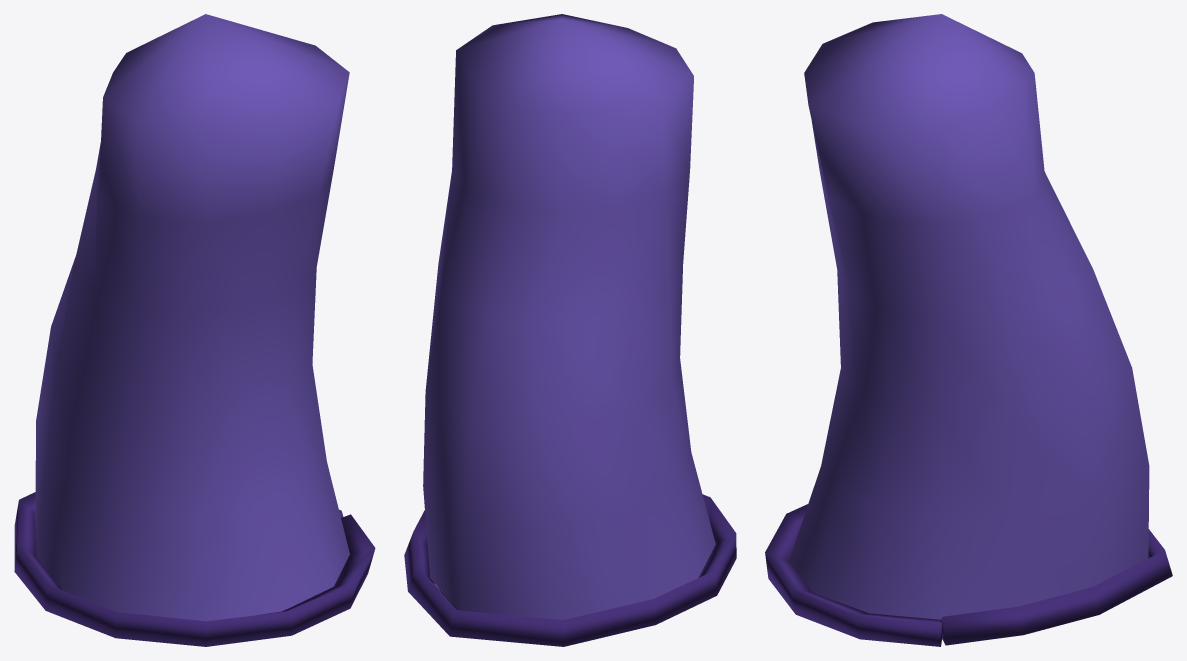
File: demonite_armor_boot.L.glb
3 renders of one model, left to right at view 1: azimuth 30°, elevation 25°; view 2: azimuth 150°, elevation 25°; view 3: azimuth 270°, elevation 25°, orthographic. The views are drawn at different scales.
Parts seen in each view (by area): view 1: demonite_armor_boot.L; view 2: demonite_armor_boot.L; view 3: demonite_armor_boot.L.
Part boxes in pixels (x1,y1,x2,y2): demonite_armor_boot.L: (14,14,375,646); demonite_armor_boot.L: (404,14,736,646); demonite_armor_boot.L: (765,14,1172,646).
Bounding box in the file's own units: 0.1684 × 0.2958 × 0.1934.
